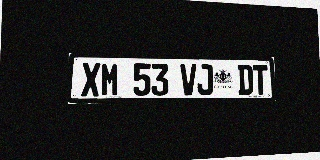3: (151, 63, 168, 96)
5: (133, 63, 151, 96)
D: (238, 65, 253, 95)
J: (197, 64, 213, 95)
M: (101, 63, 119, 96)
T: (253, 65, 268, 95)
V: (180, 64, 197, 95)
X: (81, 62, 100, 97)
